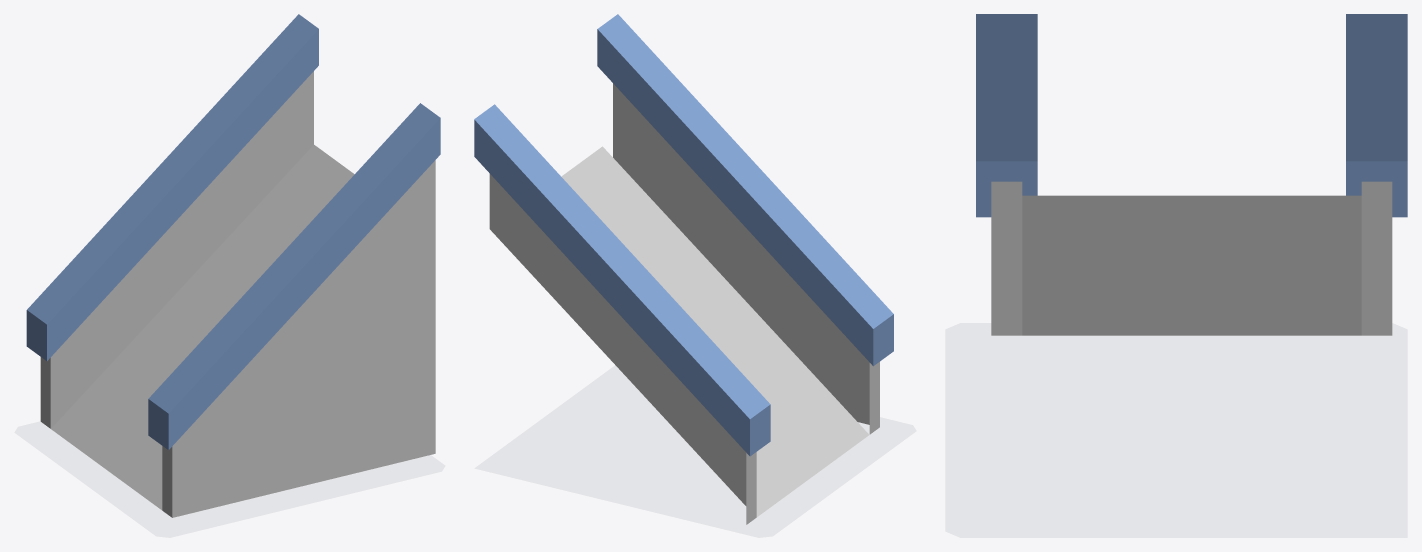
Rendered from Up-Right Stairs.obj.
The picture shows the model from 3 angles, left to right: view 1: azimuth 30°, elevation 25°; view 2: azimuth 150°, elevation 25°; view 3: azimuth 270°, elevation 25°; orthographic projection. The views are drawn at different scales.
Visible parts, largest first — view 1: polygon1, polygon0; view 2: polygon1, polygon0; view 3: polygon1, polygon0.
Part boxes in pixels (x1=…): polygon1: x1=40, y1=71, x2=435, y2=517; polygon0: x1=26, y1=14, x2=440, y2=450; polygon1: x1=489, y1=83, x2=879, y2=524; polygon0: x1=474, y1=14, x2=893, y2=456; polygon1: x1=991, y1=181, x2=1392, y2=335; polygon0: x1=976, y1=14, x2=1407, y2=217.
Size of the model in its own units: 33 by 37.5 by 30.
